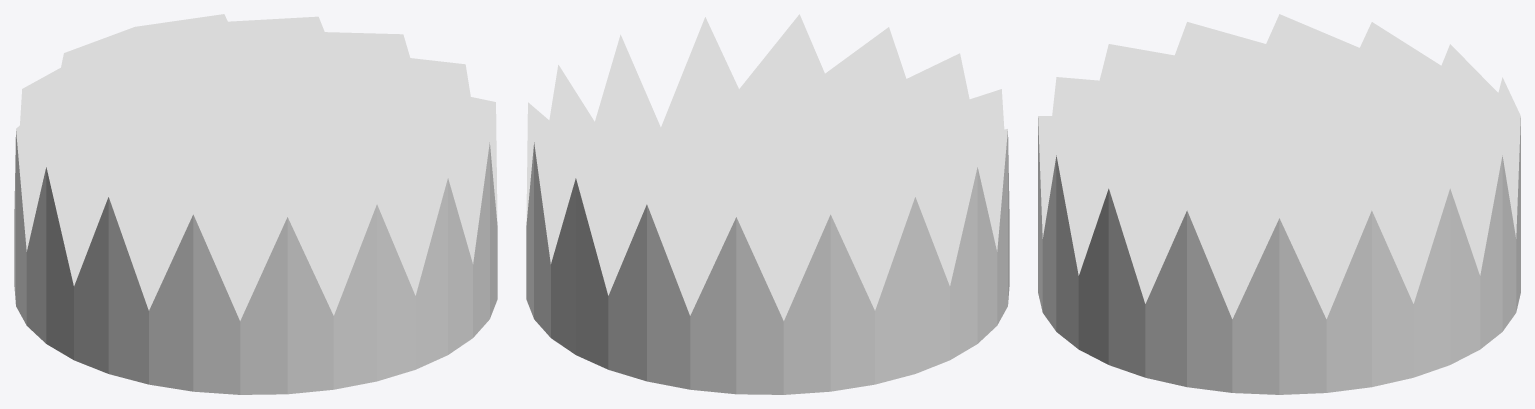
Rendered from Corona3.fbx.
3 views of the same model, side by side, from view 1: azimuth 30°, elevation 25°; view 2: azimuth 150°, elevation 25°; view 3: azimuth 270°, elevation 25° (orthographic).
Visible parts, largest first — view 1: corona; view 2: corona; view 3: corona.
Part boxes in pixels (x1,y1,x2,y2): corona: (14,14,497,394); corona: (526,14,1009,394); corona: (1038,14,1520,394).
Size of the model in its own units: 200 by 80.89 by 200.
Materials: 1 (1 with a texture image).
